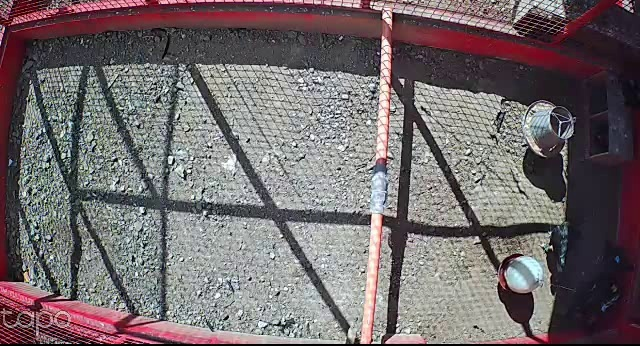Chicken: (539, 214, 584, 280)
Drinker: (496, 253, 543, 294)
Feeder: (522, 101, 575, 157)
Saddle_Color_Blue: (614, 255, 622, 262)
